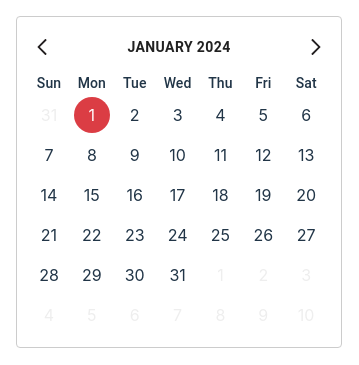
Calendar Component › navigates to previous month
Click the button with test id "prev-button".
click(42, 47)  # box [29, 34, 55, 60]
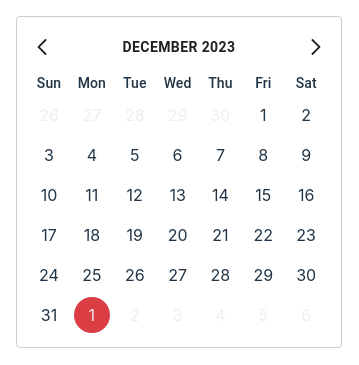
Expected: the button "December 2023" is shown, [87, 29, 271, 65]
